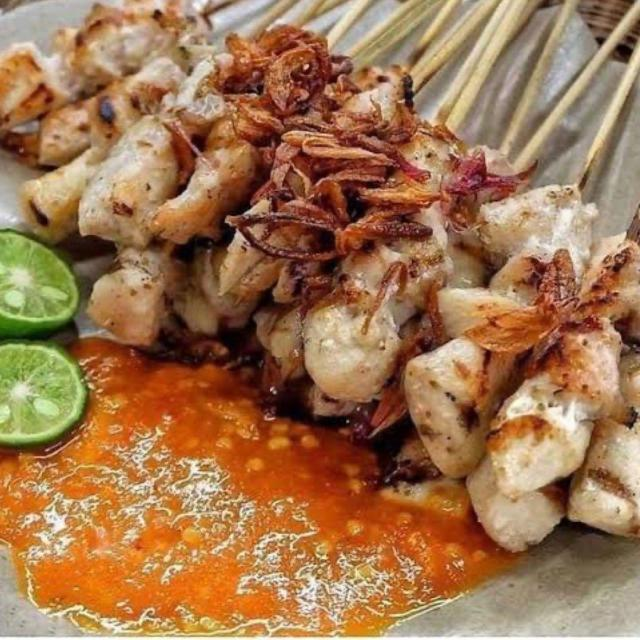Sate: (1, 0, 640, 548)
